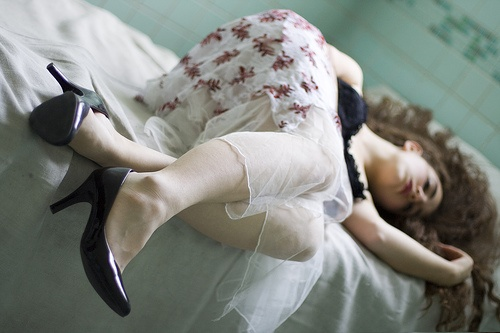head: (375, 143, 445, 221)
person: (22, 11, 478, 317)
